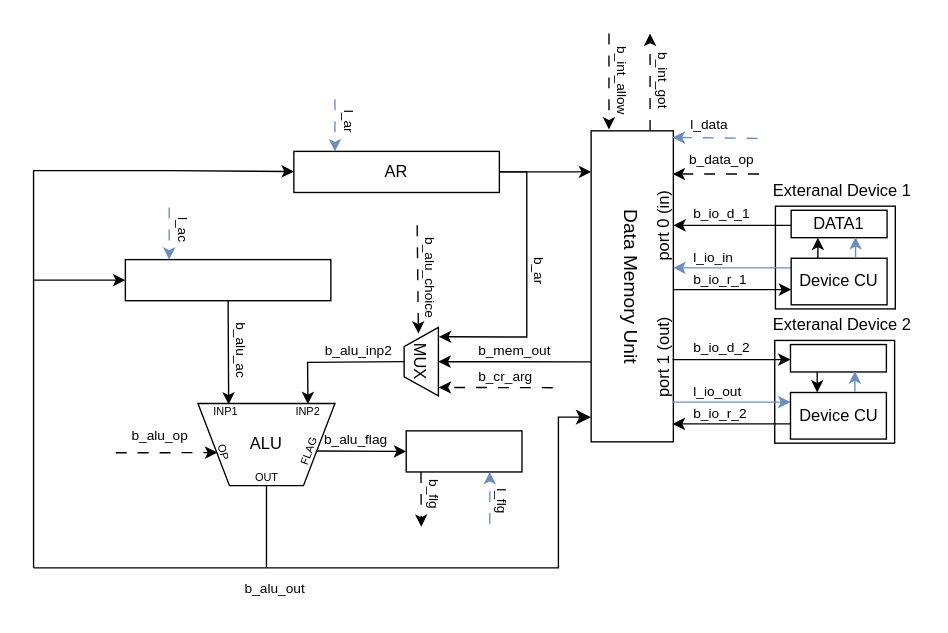
This 948x633 diagram has some shape labels left out. The shapes that lost their labels are listed below. From the top down, each one's centre as x and y in pixels, then its label:
the point at 227,279: AC
the point at 837,357: DATA2
the point at 463,450: FLG
